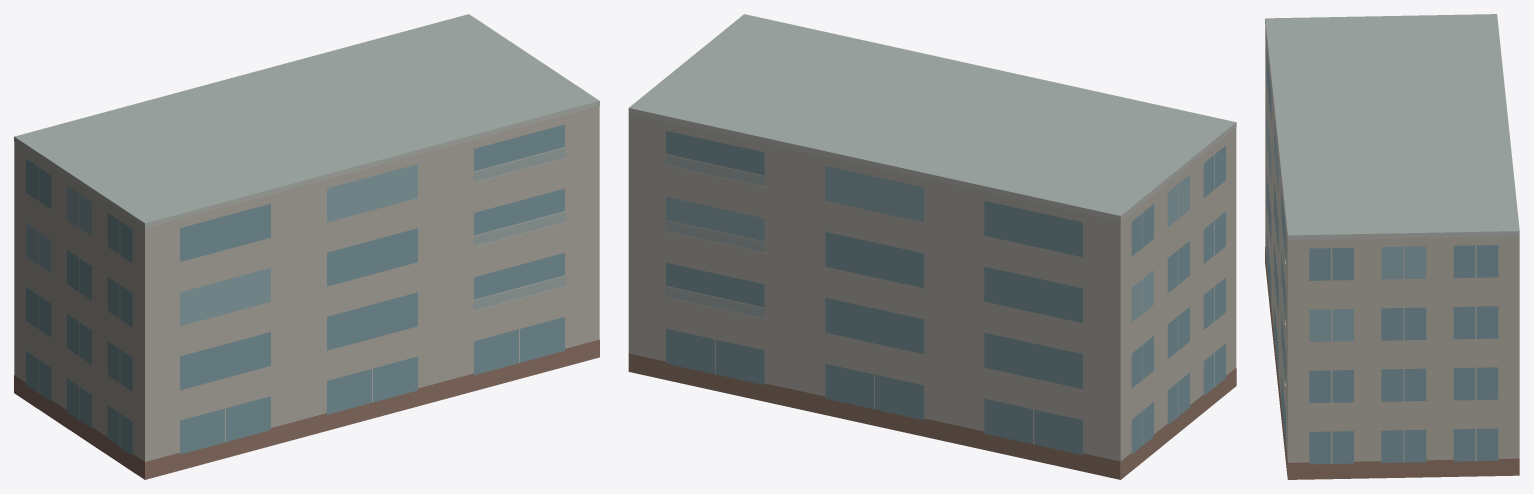
The model's file is residential-4dc6ec44-87b4-4e3f-a947-f583df5d6f50.glb.
3 views of the same model, side by side, from view 1: azimuth 30°, elevation 25°; view 2: azimuth 150°, elevation 25°; view 3: azimuth 270°, elevation 25° (orthographic). The views are drawn at different scales.
Visible parts, largest first — view 1: residential-4dc6ec44-87b4-4e3f-a947-f583df5d6f50.tmp; view 2: residential-4dc6ec44-87b4-4e3f-a947-f583df5d6f50.tmp; view 3: residential-4dc6ec44-87b4-4e3f-a947-f583df5d6f50.tmp.
Boxes of the visible parts, x1,y1,x2,y2 form: residential-4dc6ec44-87b4-4e3f-a947-f583df5d6f50.tmp: (14,14,599,479); residential-4dc6ec44-87b4-4e3f-a947-f583df5d6f50.tmp: (628,14,1236,479); residential-4dc6ec44-87b4-4e3f-a947-f583df5d6f50.tmp: (1265,14,1519,479).
Bounding box in the file's own units: 23.69 × 12.2 × 11.52.
